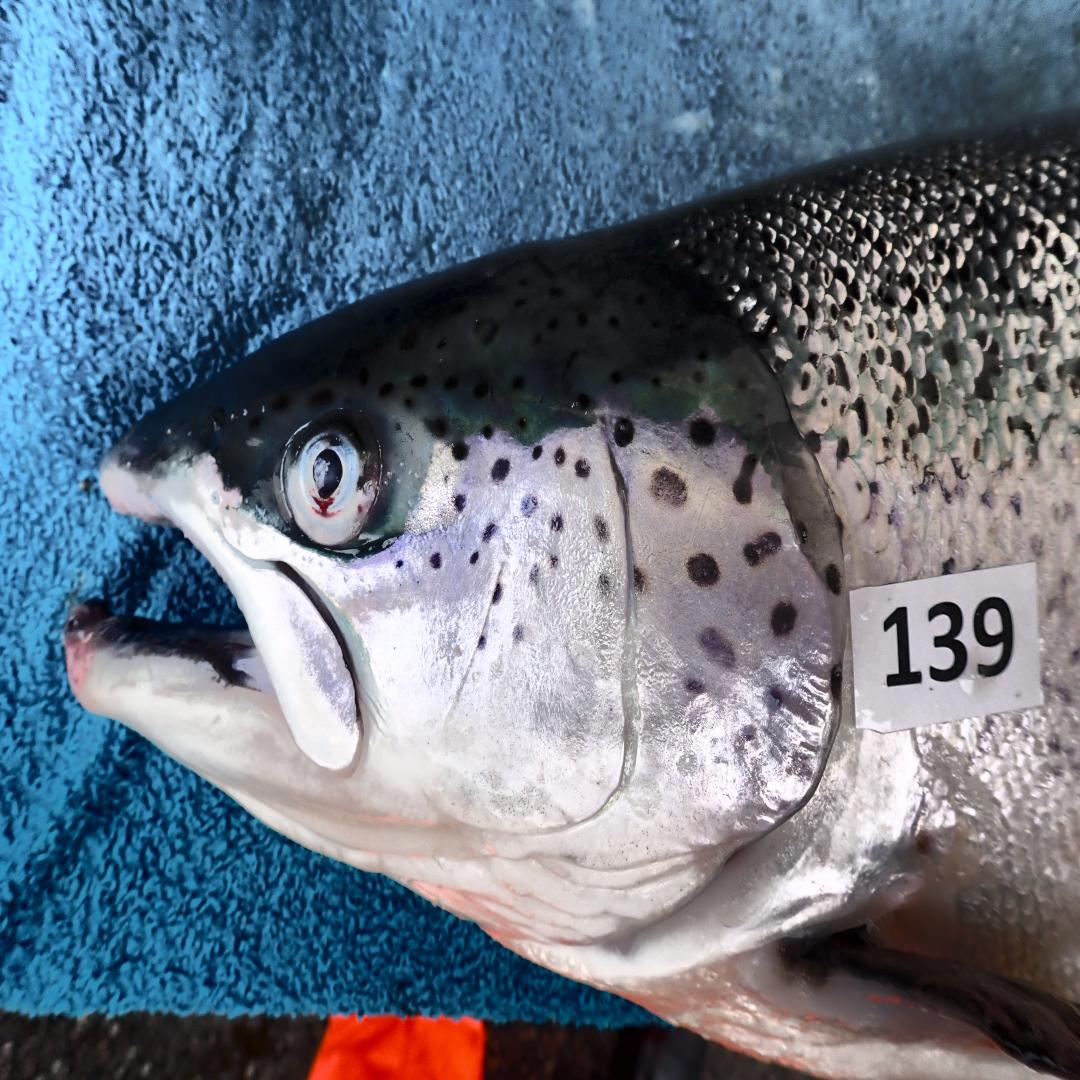spot: (698, 627, 736, 669), (650, 467, 688, 506), (732, 453, 757, 503), (686, 551, 719, 588), (745, 532, 780, 565), (732, 725, 758, 762), (770, 602, 797, 636), (688, 416, 717, 447), (614, 416, 635, 447), (825, 562, 842, 593), (765, 689, 782, 719), (597, 571, 614, 598), (831, 662, 842, 702), (491, 458, 510, 481), (593, 515, 610, 540), (684, 680, 707, 698), (521, 495, 538, 518), (633, 565, 645, 593), (451, 442, 468, 461), (576, 458, 591, 478), (550, 513, 563, 534), (483, 523, 496, 543), (491, 582, 502, 605), (454, 492, 466, 512), (430, 551, 443, 568), (529, 565, 540, 585), (512, 625, 523, 644), (481, 425, 494, 439), (555, 447, 565, 464), (549, 555, 559, 572), (476, 636, 485, 652), (532, 444, 542, 458), (470, 551, 479, 565), (397, 560, 403, 568)
